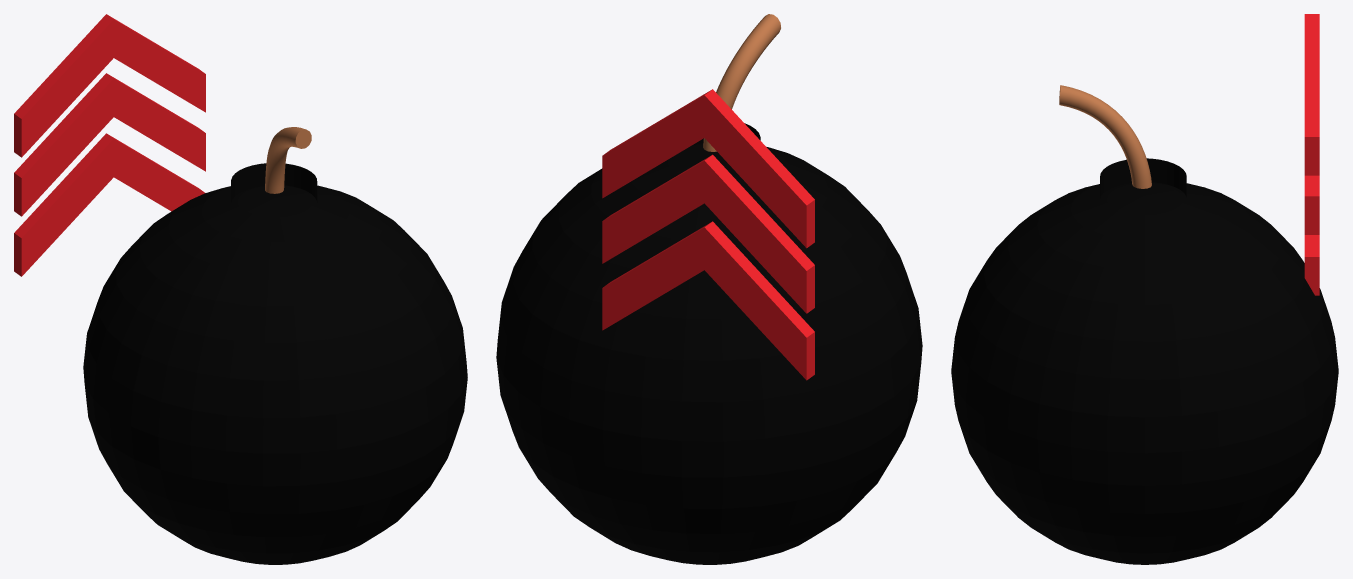
Rendered from BombUp.glb.
3 views of the same model, side by side, from view 1: azimuth 30°, elevation 25°; view 2: azimuth 150°, elevation 25°; view 3: azimuth 270°, elevation 25° (orthographic). The views are drawn at different scales.
Visible parts, largest first — view 1: Sphere; view 2: Sphere; view 3: Sphere.
Boxes of the visible parts, x1,y1,x2,y2 form: Sphere: (14, 14, 467, 564); Sphere: (496, 14, 922, 564); Sphere: (951, 14, 1338, 564).
Size of the model in its own units: 9.85 by 13.5 by 9.63.
3 materials, 3 textured.
